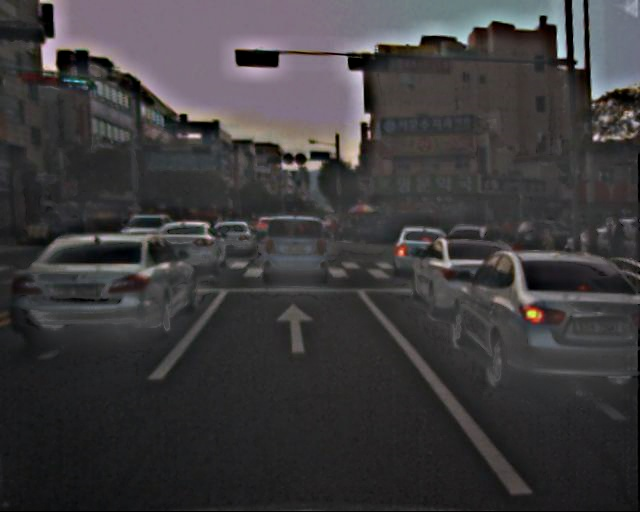person: (600, 215, 628, 283)
